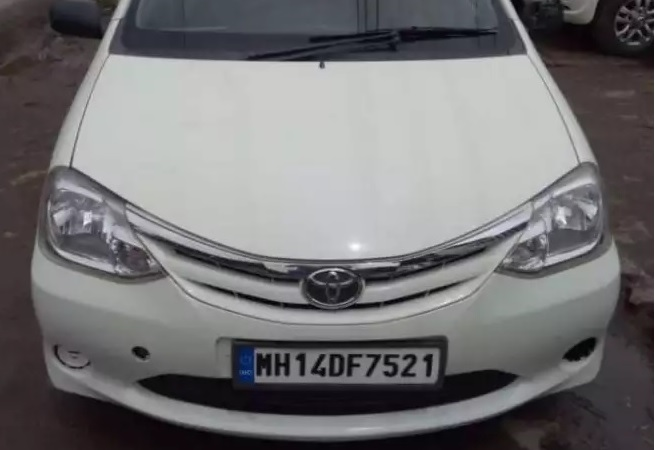licenseplate: (230, 340, 443, 388)
